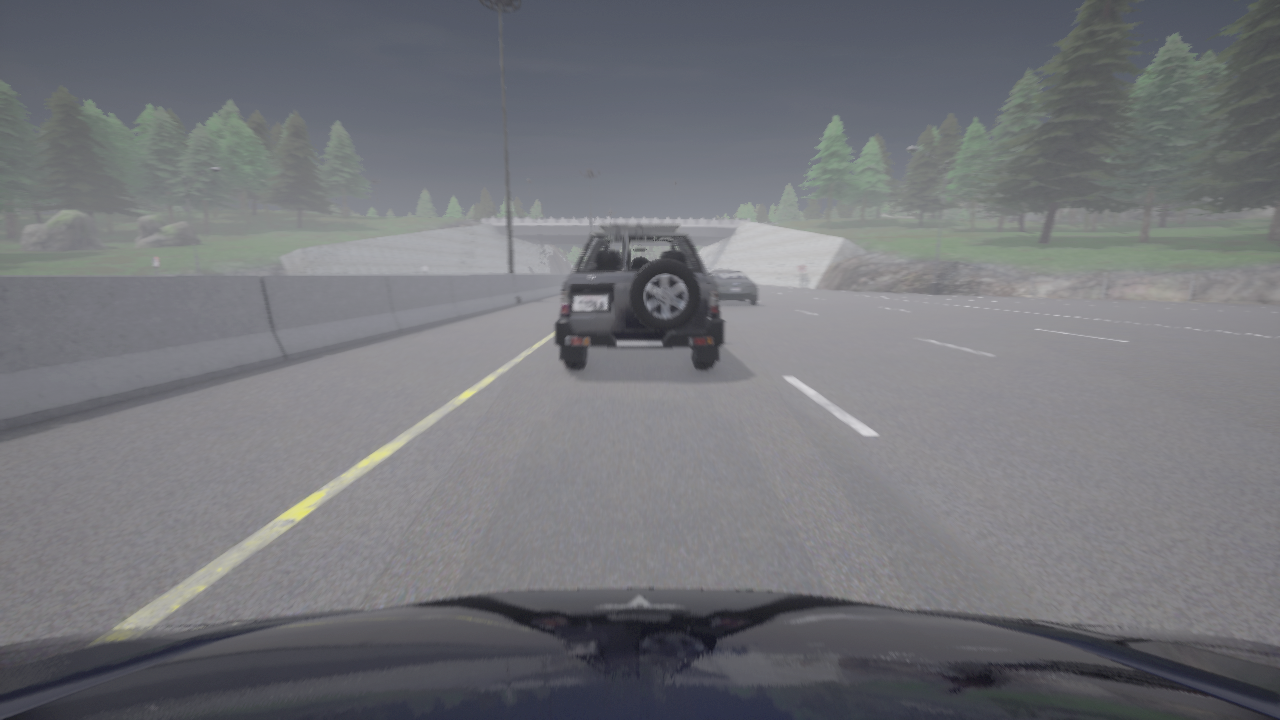cyclist: (0, 588, 1279, 719), (555, 224, 723, 369), (709, 269, 758, 305)
